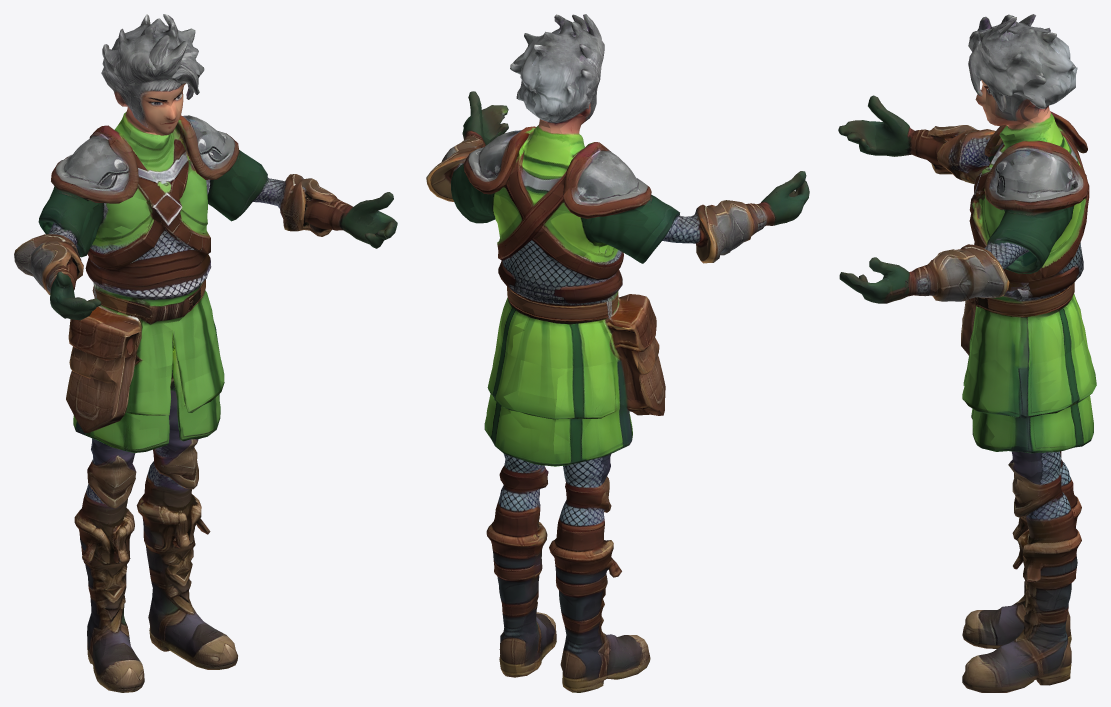
File: npc_guard_greenvale.glb
3 renders of one model, left to right at view 1: azimuth 30°, elevation 25°; view 2: azimuth 150°, elevation 25°; view 3: azimuth 270°, elevation 25°, orthographic.
Parts seen in each view (by area): view 1: hollow_normalise; view 2: hollow_normalise; view 3: hollow_normalise.
Boxes of the visible parts, x1,y1,x2,y2 form: hollow_normalise: [14, 14, 397, 692]; hollow_normalise: [426, 14, 809, 692]; hollow_normalise: [838, 14, 1096, 692].
Size of the model in its own units: 0.8179 by 1.5 by 0.5401.
1 material, 1 textured.
